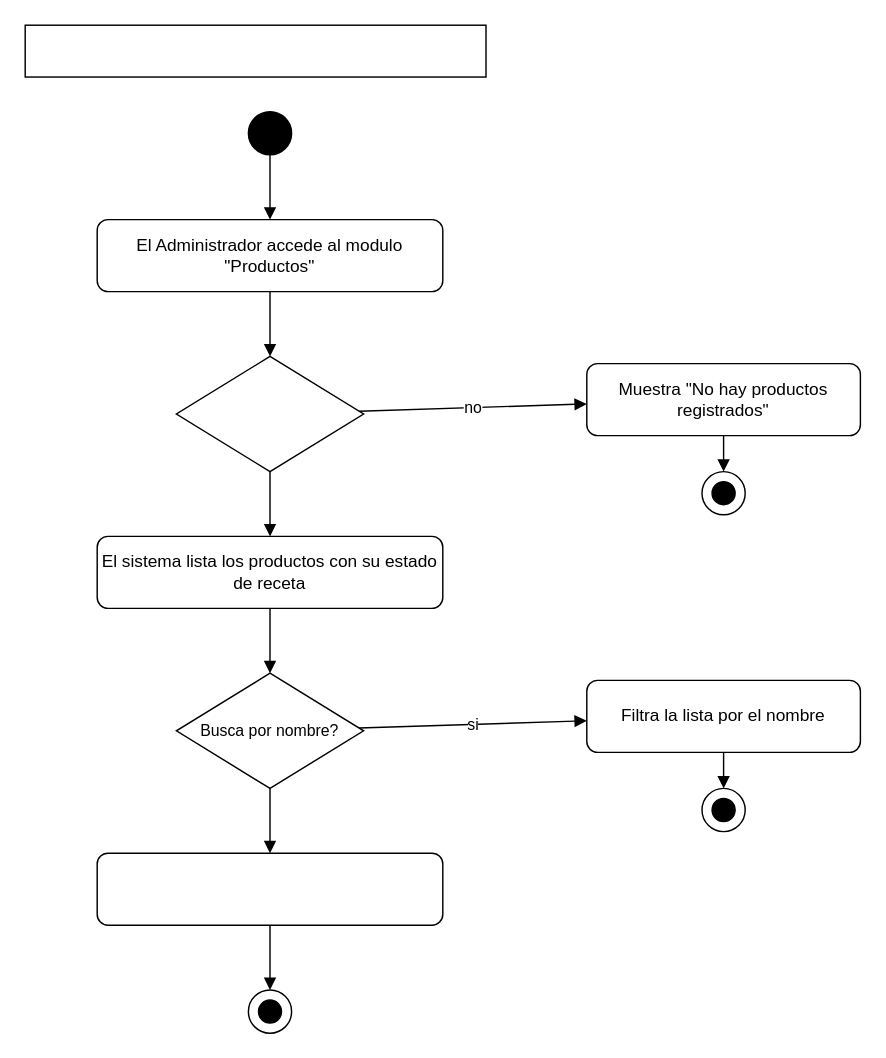
The diagram is 886 pixels wide and 1058 high, and some of its shapes have lost their labels. Each missing label, with the box of its shape:
Diagrama de actividad - Listar Recetas (CU-06): (24, 24, 486, 77)
Hay productos registrados?: (175, 355, 364, 472)
Muestra el catalogo de productos: (96, 852, 443, 925)
